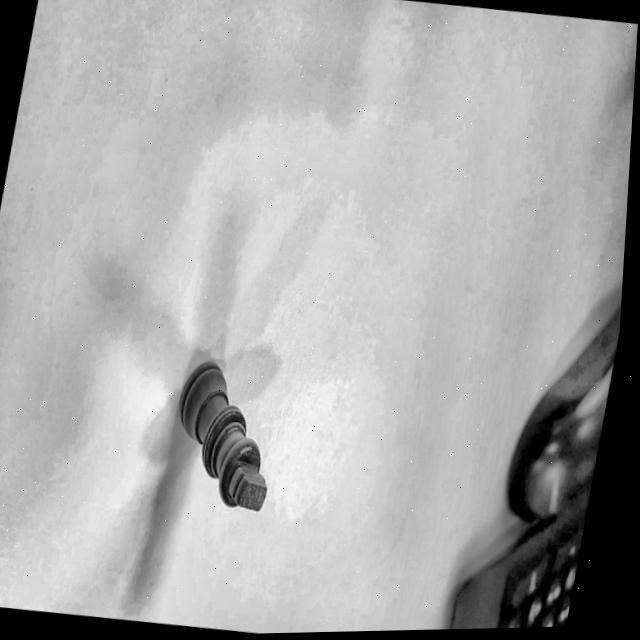black-king: (139, 331, 301, 535)
